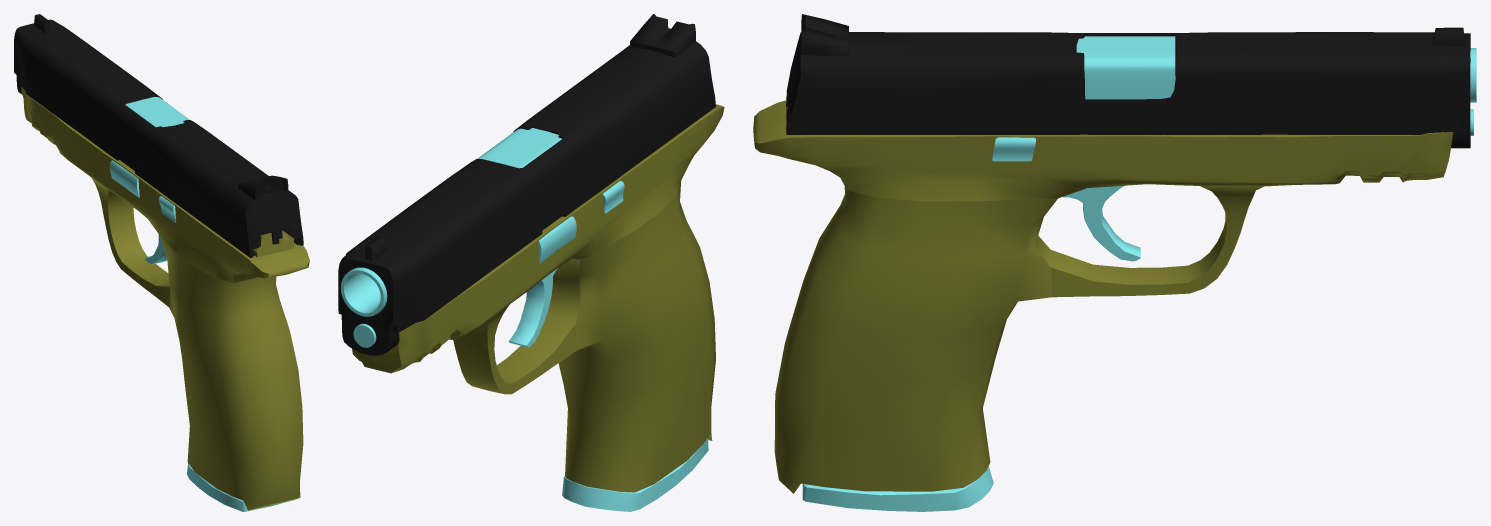
3 renders of one model, left to right at view 1: azimuth 30°, elevation 25°; view 2: azimuth 150°, elevation 25°; view 3: azimuth 270°, elevation 25°, orthographic. The views are drawn at different scales.
Visible parts, largest first — view 1: Original; view 2: Original; view 3: Original.
Part boxes in pixels (<box>): Original: <box>14,14,309,511</box>; Original: <box>338,14,724,511</box>; Original: <box>753,14,1476,511</box>.
Bounding box in the file's own units: 6.64 × 26.43 × 37.08.
